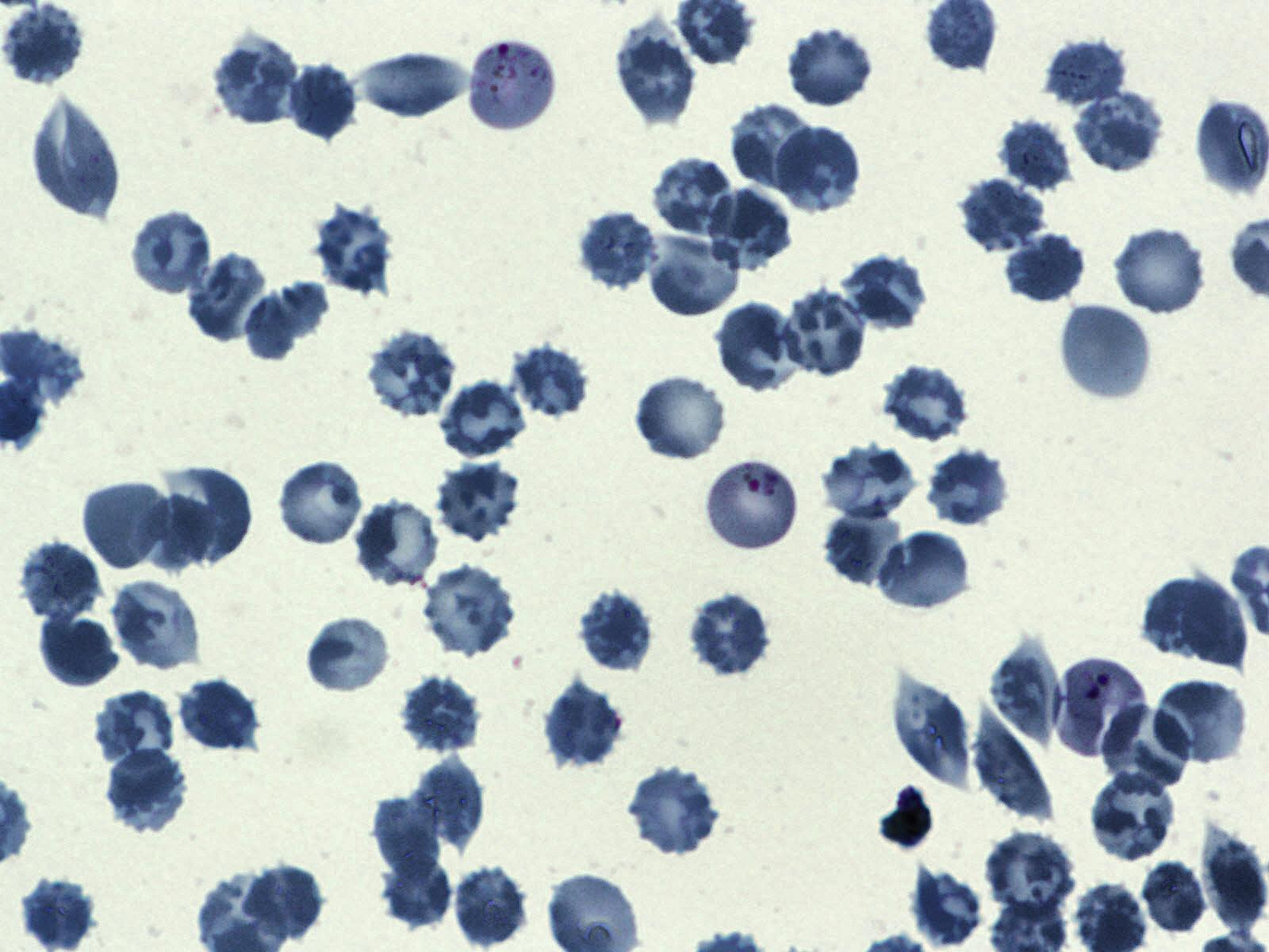Infected: (1053, 654, 1147, 758), (704, 458, 800, 554), (466, 40, 558, 133)
Uninfected: (34, 99, 118, 214), (976, 704, 1057, 822), (1060, 301, 1152, 402), (890, 670, 968, 789), (988, 640, 1062, 756), (1114, 225, 1207, 317), (1102, 703, 1193, 795), (634, 373, 727, 463), (645, 231, 744, 315), (613, 25, 696, 125), (113, 578, 201, 672), (982, 831, 1075, 919), (715, 302, 802, 396), (169, 466, 254, 562), (1090, 771, 1179, 862), (1155, 678, 1249, 763), (629, 766, 719, 854), (354, 498, 442, 588), (731, 100, 819, 190), (362, 52, 476, 121), (277, 460, 366, 548), (422, 570, 515, 654), (366, 332, 457, 416), (822, 444, 918, 523), (82, 481, 165, 571), (880, 532, 970, 614), (1204, 820, 1267, 937), (782, 291, 868, 376), (305, 614, 393, 697), (706, 190, 795, 271), (819, 506, 905, 589), (440, 378, 528, 459), (129, 210, 213, 294), (1075, 92, 1160, 175), (434, 464, 524, 542), (776, 127, 860, 210), (546, 679, 623, 769), (884, 361, 968, 443), (415, 759, 489, 852), (788, 27, 875, 106), (108, 747, 187, 834), (215, 42, 298, 124), (313, 206, 394, 290), (19, 539, 100, 623), (190, 253, 268, 340), (1181, 573, 1248, 674), (688, 593, 770, 675), (132, 493, 217, 572), (1141, 582, 1226, 660), (398, 676, 481, 755), (94, 691, 178, 769), (6, 3, 85, 84), (1044, 36, 1127, 113), (961, 179, 1044, 253), (244, 866, 325, 941), (922, 454, 1008, 524), (577, 209, 654, 287), (655, 159, 733, 236), (576, 593, 650, 674), (847, 255, 926, 330), (40, 615, 121, 688), (371, 800, 440, 885), (453, 866, 526, 946), (910, 866, 983, 946), (247, 284, 326, 357), (179, 677, 255, 752), (383, 850, 453, 931), (1007, 232, 1089, 301), (512, 345, 589, 417), (1139, 861, 1210, 937), (25, 879, 98, 952), (287, 66, 356, 140), (1001, 119, 1068, 191)
